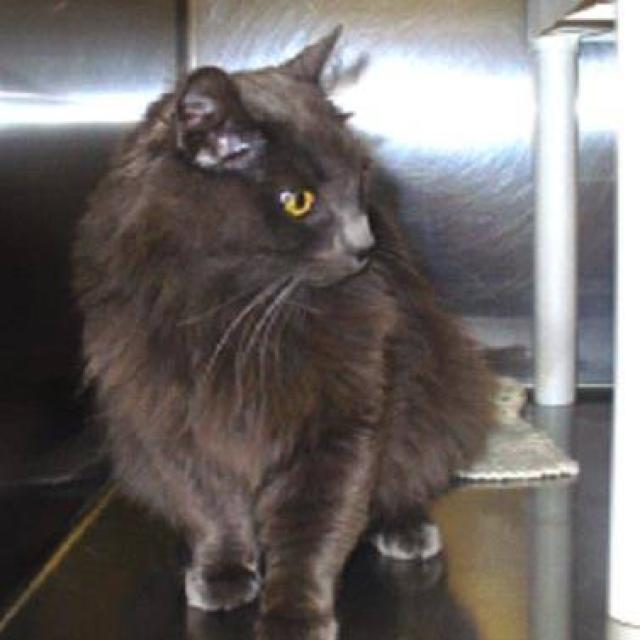cat: (58, 22, 504, 638)
